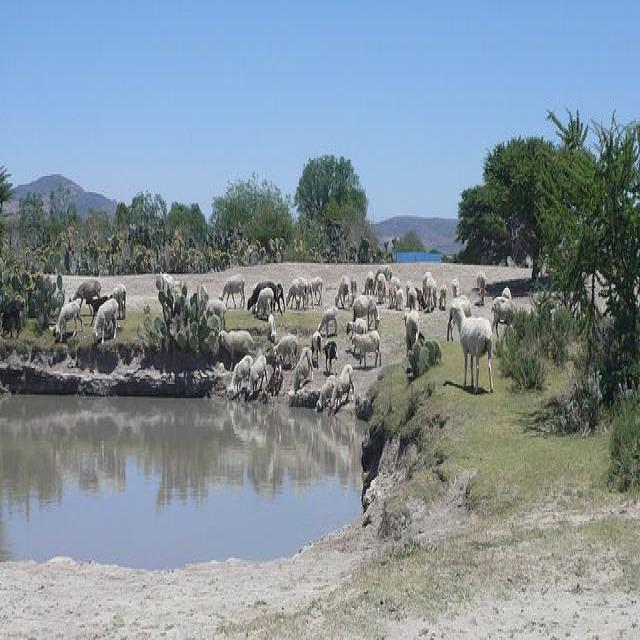Sheep: (48, 258, 513, 398), (451, 300, 494, 396)
